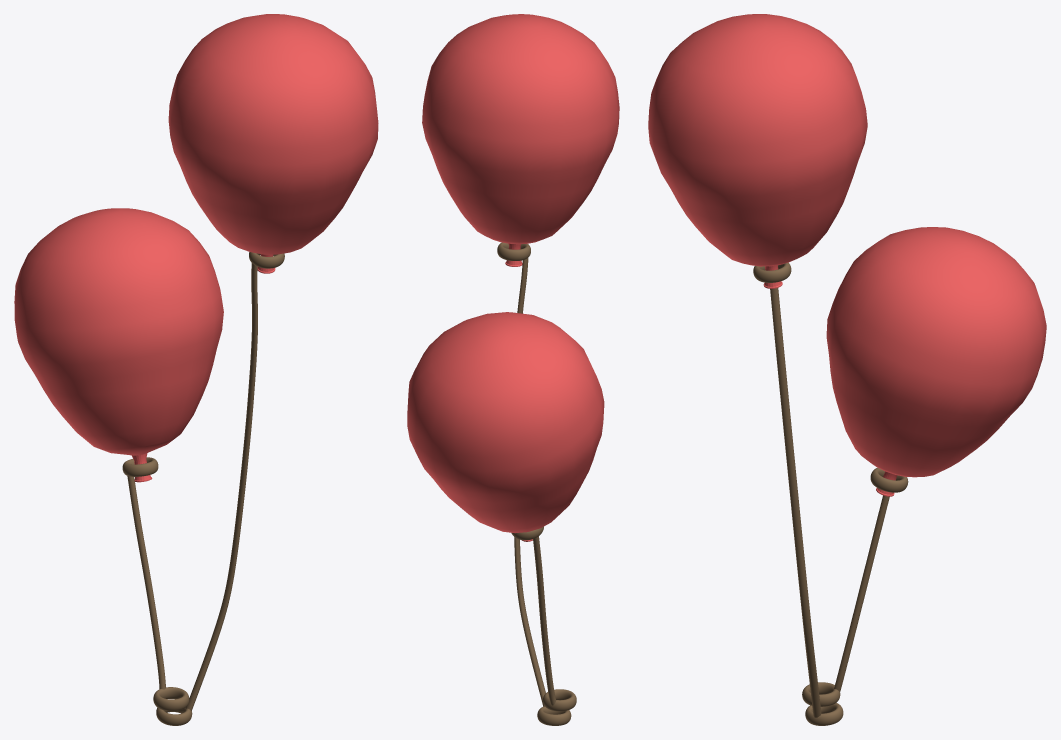
Rendered from Ballons_Update.fbx.
3 renders of one model, left to right at view 1: azimuth 30°, elevation 25°; view 2: azimuth 150°, elevation 25°; view 3: azimuth 270°, elevation 25°, orthographic. The views are drawn at different scales.
Parts seen in each view (by area): view 1: Ballon2, Ballon1, Rope1, Rope2, Knob4; view 2: Ballon1, Ballon2, Rope1, Rope2, Knob4, Knob3, Knob1; view 3: Ballon2, Ballon1, Rope1, Rope2.
Part boxes in pixels (x1,y1,x2,y2): Ballon2: (14,208,223,482); Ballon1: (168,14,378,273); Rope1: (186,263,257,710); Rope2: (127,476,165,689); Knob4: (153,687,189,711); Ballon1: (422,14,619,266); Ballon2: (407,312,604,541); Rope1: (514,258,545,706); Rope2: (533,536,556,705); Knob4: (543,689,576,711); Knob3: (537,706,571,725); Knob1: (497,242,530,260); Ballon2: (826,227,1046,496); Ballon1: (648,14,867,288); Rope1: (770,288,821,717); Rope2: (834,495,889,691).
Size of the model in its own units: 0.7608 by 2.03 by 1.
